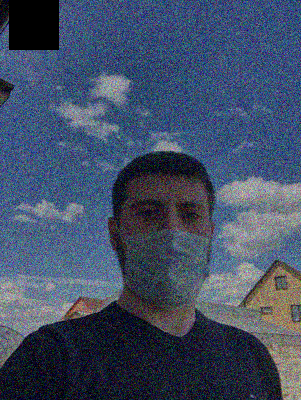with_mask: (121, 192, 212, 312)
